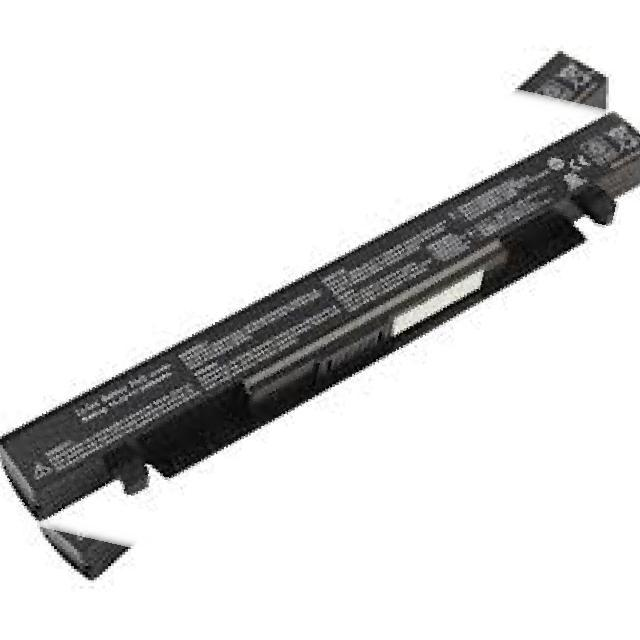Battery: (1, 82, 640, 527)
